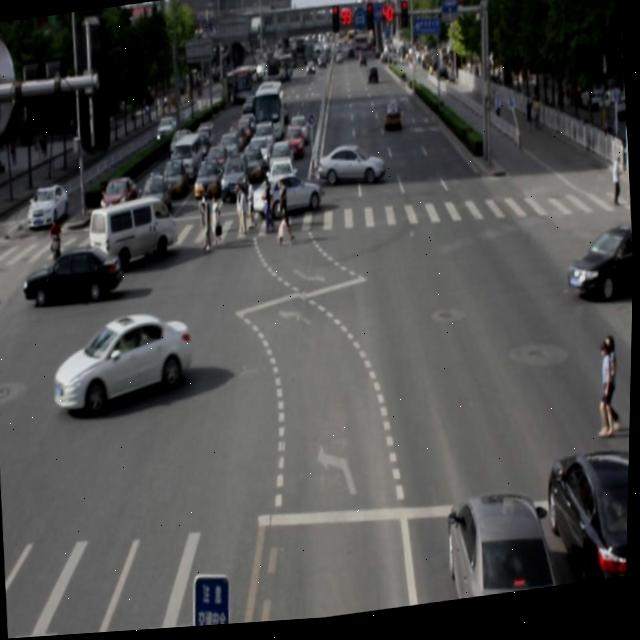car: (50, 308, 196, 415), (535, 444, 632, 595), (436, 486, 554, 608), (22, 241, 126, 311), (248, 168, 323, 225)
truck: (88, 192, 181, 269)
